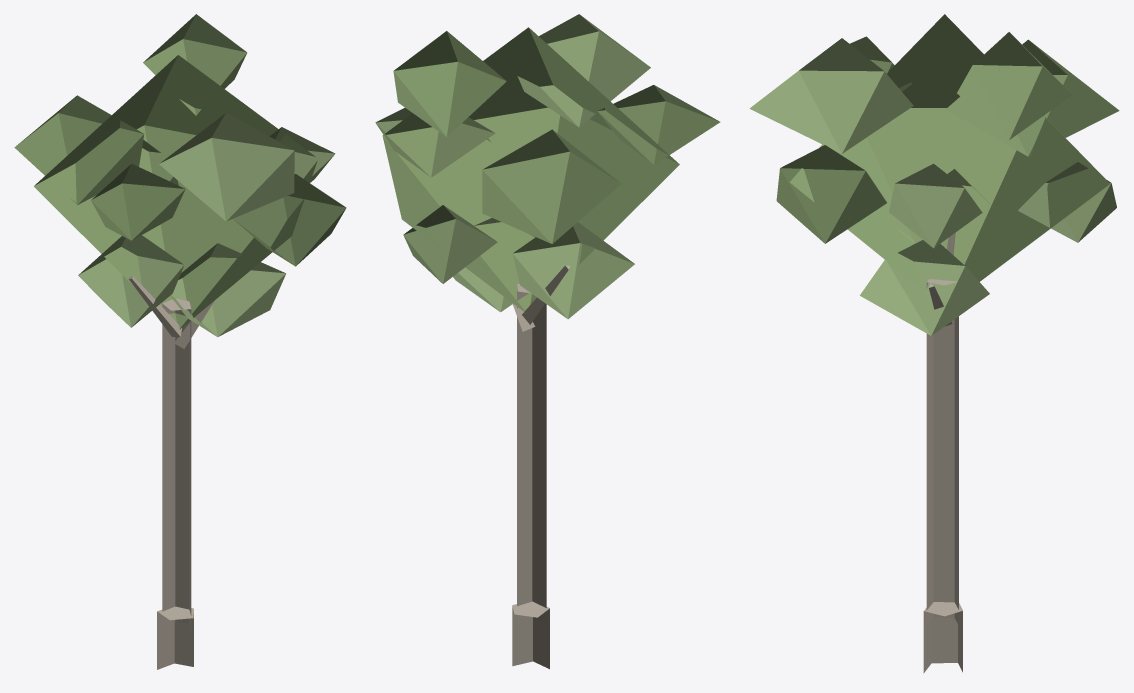
Rendered from tree.temp.birch__summer.glb.
3 renders of one model, left to right at view 1: azimuth 30°, elevation 25°; view 2: azimuth 150°, elevation 25°; view 3: azimuth 270°, elevation 25°, orthographic. The views are drawn at different scales.
Parts seen in each view (by area): view 1: tree.temp.birch__summer; view 2: tree.temp.birch__summer; view 3: tree.temp.birch__summer.
Boxes of the visible parts, x1=… form: tree.temp.birch__summer: x1=14, y1=14, x2=346, y2=669; tree.temp.birch__summer: x1=375, y1=14, x2=720, y2=669; tree.temp.birch__summer: x1=749, y1=14, x2=1119, y2=673.
Size of the model in its own units: 7.2 by 15.29 by 7.73.
